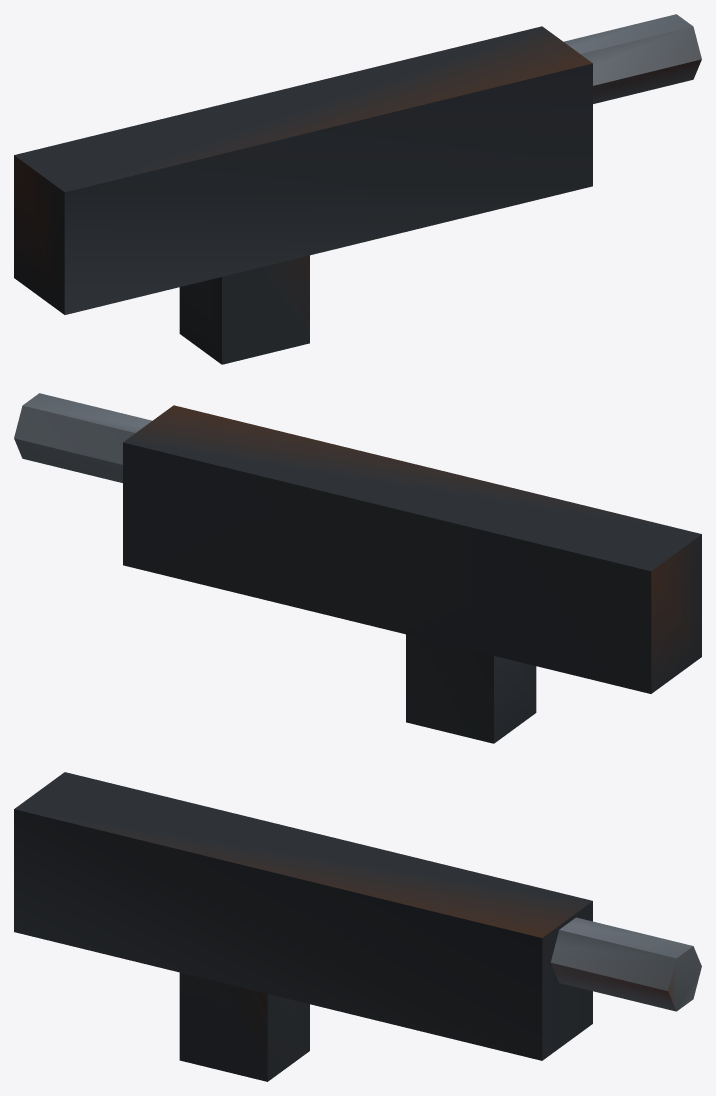
File: weapon_smg.glb
3 views of the same model, one above another, from view 1: azimuth 30°, elevation 25°; view 2: azimuth 150°, elevation 25°; view 3: azimuth 330°, elevation 25° (orthographic).
Parts seen in each view (by area): view 1: weapon_smg; view 2: weapon_smg; view 3: weapon_smg.
Part boxes in pixels (x1,y1,x2,y2): weapon_smg: [14, 14, 701, 364]; weapon_smg: [14, 393, 701, 743]; weapon_smg: [14, 772, 701, 1081].
Bounding box in the file's own units: 22 × 7 × 3.
